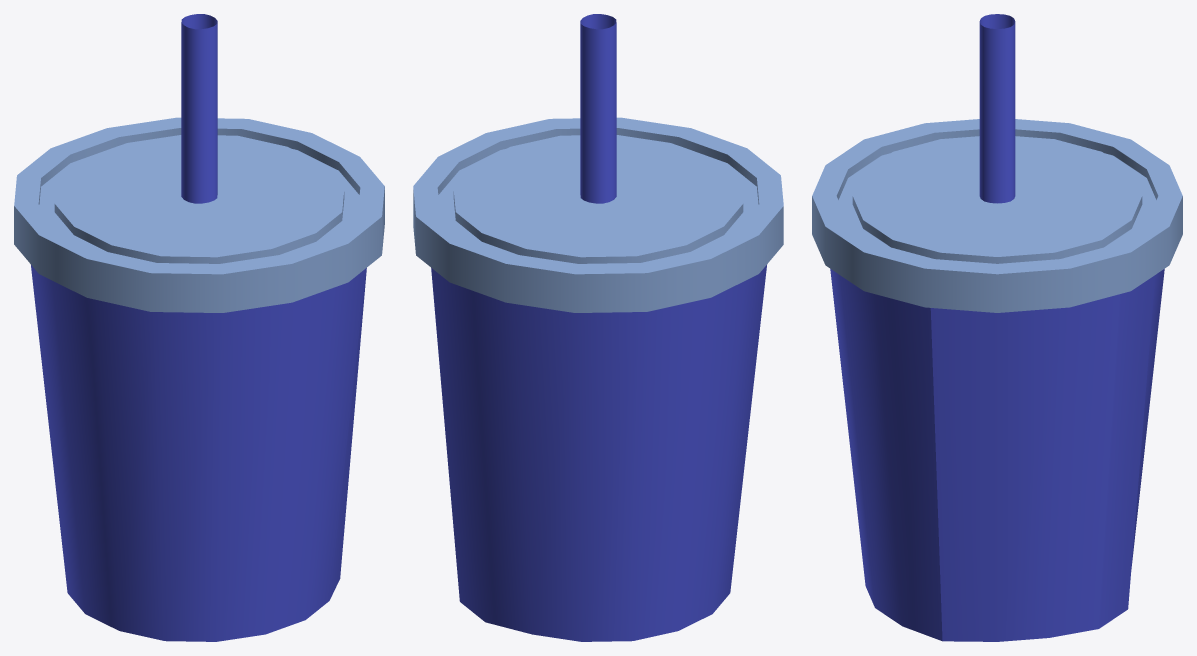
The model's file is beverage_revize.fbx.
3 renders of one model, left to right at view 1: azimuth 30°, elevation 25°; view 2: azimuth 150°, elevation 25°; view 3: azimuth 270°, elevation 25°, orthographic.
Parts seen in each view (by area): view 1: beverage.004; view 2: beverage.004; view 3: beverage.004.
Boxes of the visible parts, box(x1,y1,x2,y2) form: beverage.004: box(14, 14, 384, 641); beverage.004: box(413, 14, 783, 641); beverage.004: box(812, 14, 1182, 641).
Size of the model in its own units: 116 by 195 by 116.
